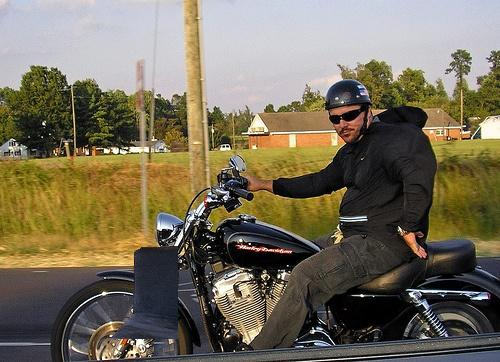tampered: (110, 247, 178, 339)
